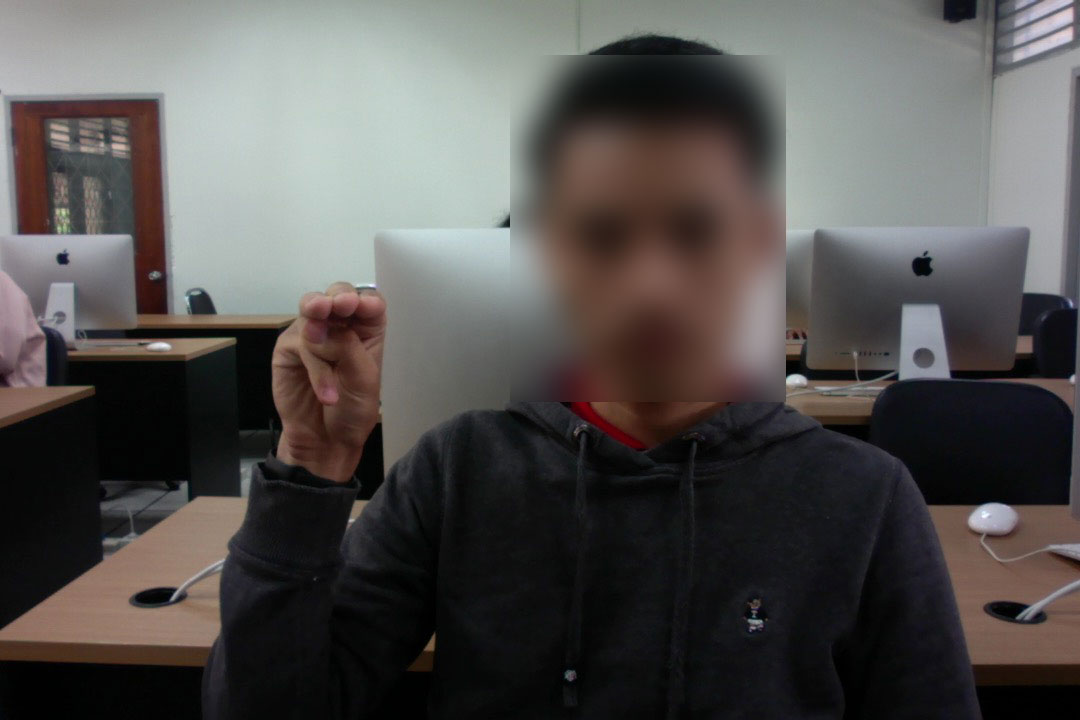mor: (264, 268, 393, 462)
